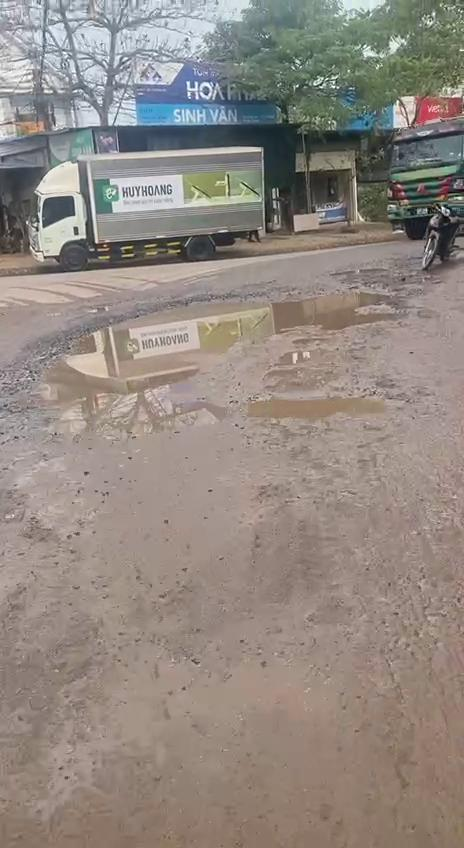pothole: (27, 284, 423, 423)
